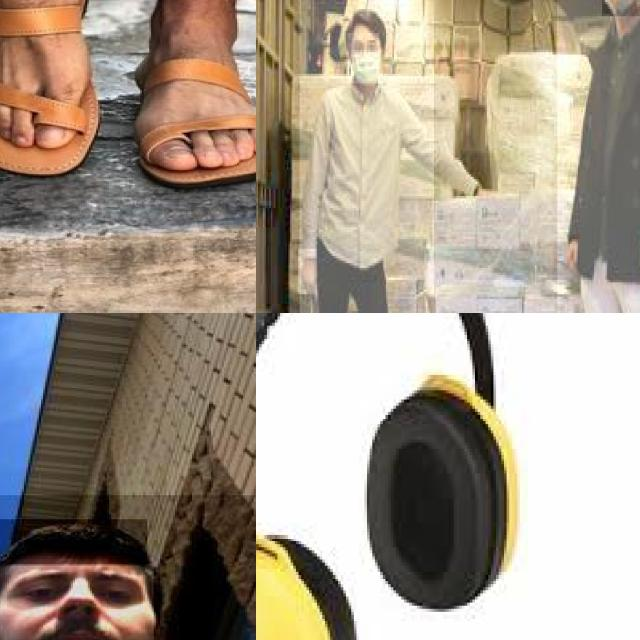Ear-protection: (350, 370, 524, 607), (256, 525, 356, 640)
No_Glasses: (0, 563, 156, 616)
Sandals: (127, 0, 256, 188), (0, 0, 103, 173)
face_mask: (348, 33, 381, 86), (602, 0, 640, 18)
face_nomask: (0, 564, 153, 640)
hand_noglove: (298, 248, 319, 296), (564, 234, 581, 273)
head_nohelmet: (0, 519, 147, 565), (348, 14, 389, 38)
person: (299, 0, 435, 313), (0, 495, 256, 640), (557, 0, 640, 313)
